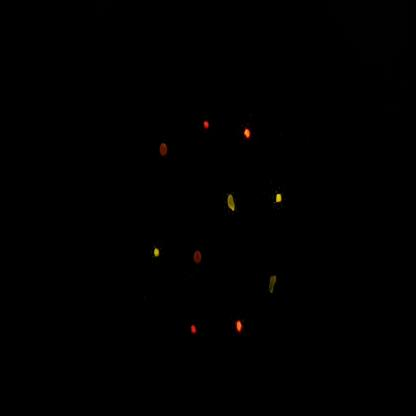PE: (149, 245, 167, 271), (272, 184, 287, 215)
PET: (189, 315, 207, 346), (202, 114, 217, 144)
PP: (223, 187, 240, 224), (266, 266, 282, 302)
PS: (156, 136, 174, 167), (191, 246, 207, 272)
PVC: (235, 310, 247, 341), (243, 121, 256, 145)
